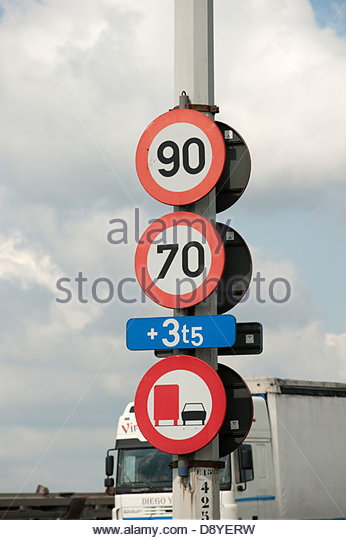Speed_limit_70km: (134, 211, 224, 307)
Speed_limit_90km: (133, 108, 225, 205)
